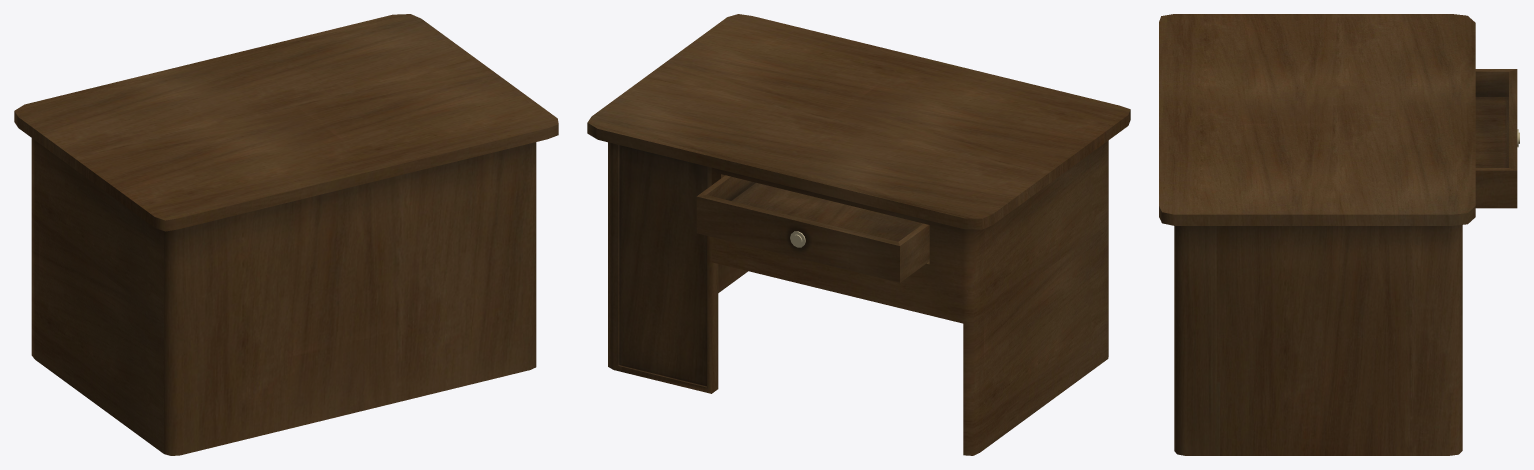
Rendered from FrontTable.FBX.
3 renders of one model, left to right at view 1: azimuth 30°, elevation 25°; view 2: azimuth 150°, elevation 25°; view 3: azimuth 270°, elevation 25°, orthographic. The views are drawn at different scales.
Parts seen in each view (by area): view 1: Desk; view 2: Desk; view 3: Desk.
Boxes of the visible parts, x1,y1,x2,y2 form: Desk: [14, 14, 558, 455]; Desk: [587, 14, 1130, 455]; Desk: [1159, 14, 1519, 455].
Size of the model in its own units: 450 by 261 by 342.
1 material, 1 textured.
